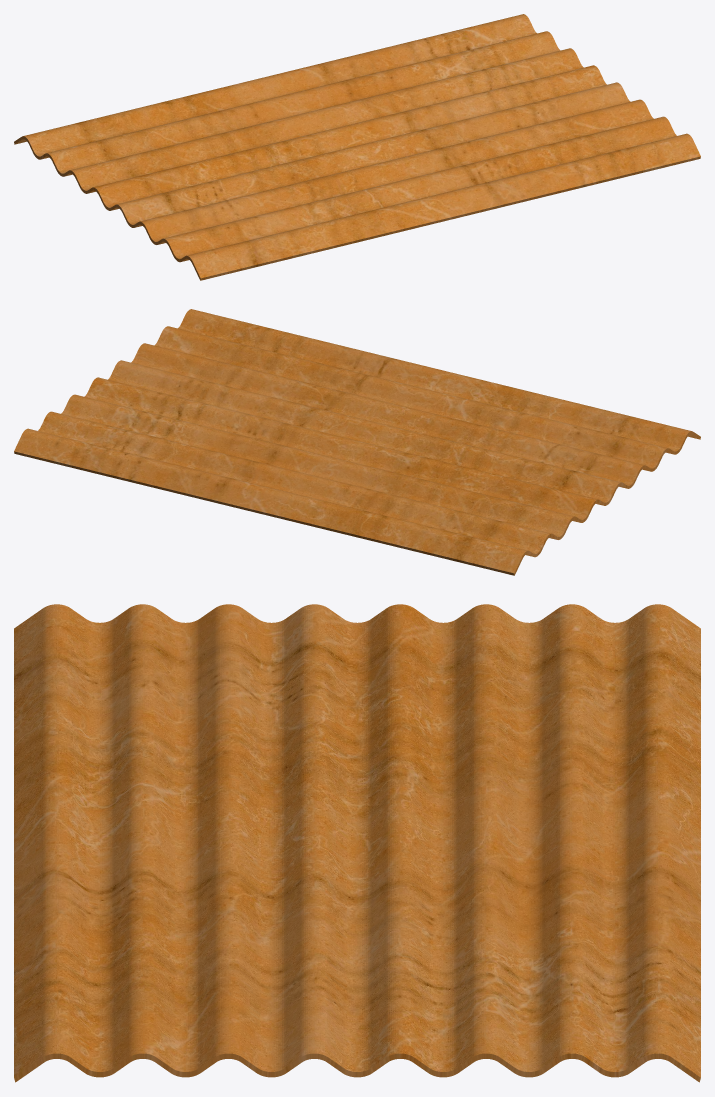
File: Project Name.gltf
3 views of the same model, one above another, from view 1: azimuth 30°, elevation 25°; view 2: azimuth 150°, elevation 25°; view 3: azimuth 270°, elevation 25° (orthographic). The views are drawn at different scales.
Parts seen in each view (by area): view 1: Plane_Plane.004; view 2: Plane_Plane.004; view 3: Plane_Plane.004.
Part boxes in pixels (<box>): Plane_Plane.004: <box>14,14,700,280</box>; Plane_Plane.004: <box>14,309,700,575</box>; Plane_Plane.004: <box>14,604,700,1082</box>.
Size of what is drawn, in the model's own units: 0.0331 by 0.001 by 0.0214.
Materials: 1 (1 with a texture image).
